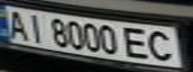0: (81, 20, 103, 53), (100, 22, 121, 56), (63, 18, 84, 51)
8: (45, 16, 69, 48)
A: (3, 7, 30, 40)
C: (142, 28, 181, 62)
E: (121, 25, 154, 60)
I: (24, 11, 48, 43)
